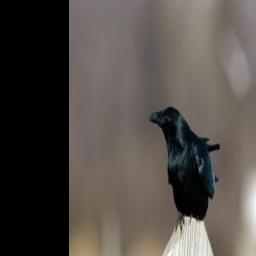Crow: (149, 106, 220, 230)
